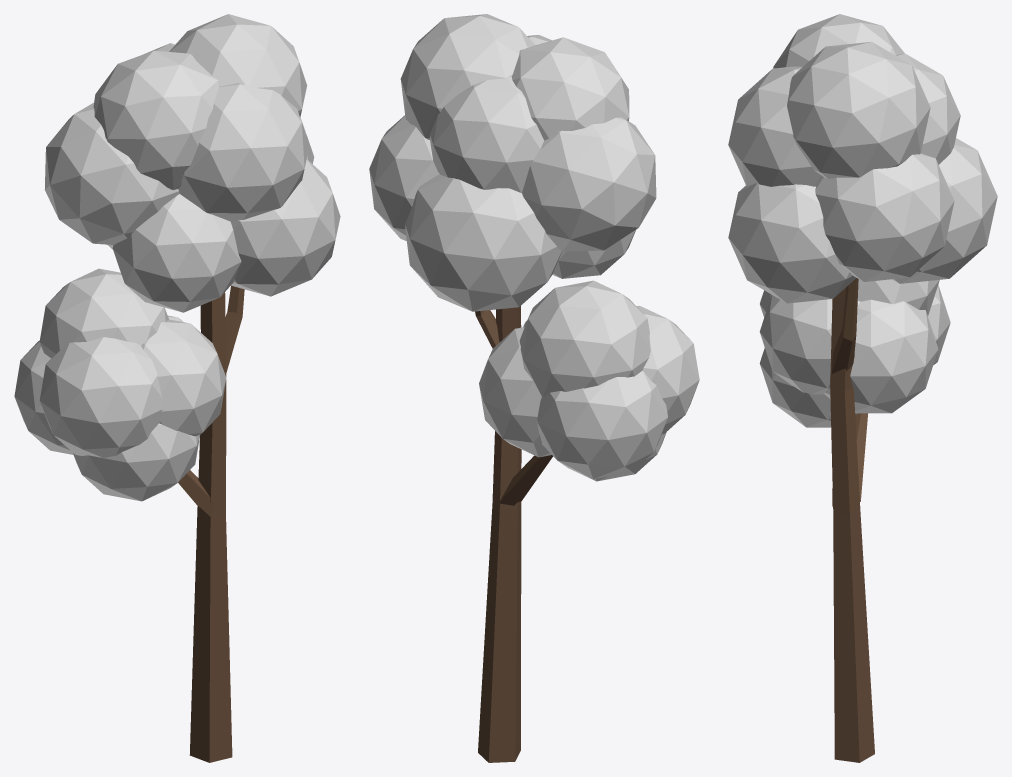
Rendered from tree17.fbx.
3 renders of one model, left to right at view 1: azimuth 30°, elevation 25°; view 2: azimuth 150°, elevation 25°; view 3: azimuth 270°, elevation 25°, orthographic.
Visible parts, largest first — view 1: tree17; view 2: tree17; view 3: tree17.
Boxes of the visible parts, x1=… form: tree17: x1=14, y1=14, x2=340, y2=762; tree17: x1=369, y1=14, x2=699, y2=762; tree17: x1=728, y1=14, x2=997, y2=762.
Bounding box in the file's own units: 3.03 × 2.56 × 7.52.
